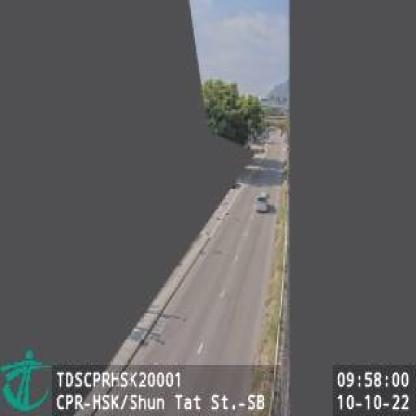Car: (257, 190, 270, 211)
